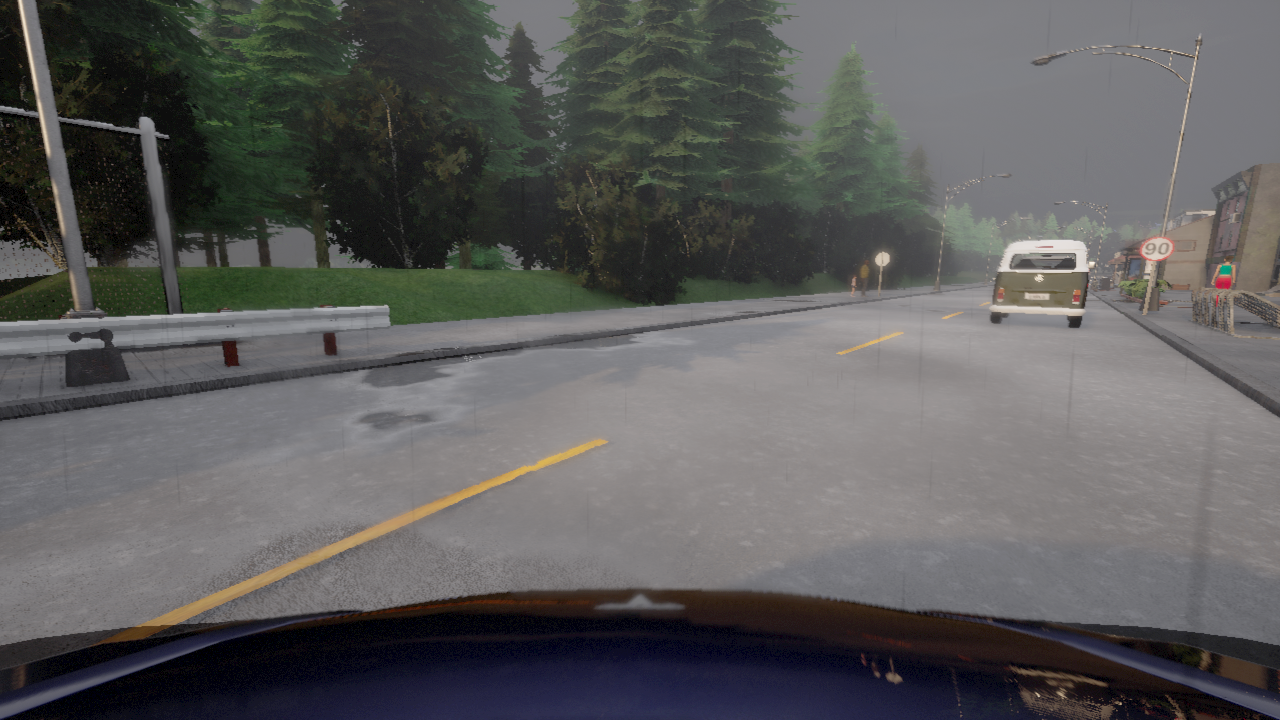cyclist: (0, 588, 1279, 719), (990, 240, 1095, 327)
pedestrian: (1212, 255, 1235, 308)
